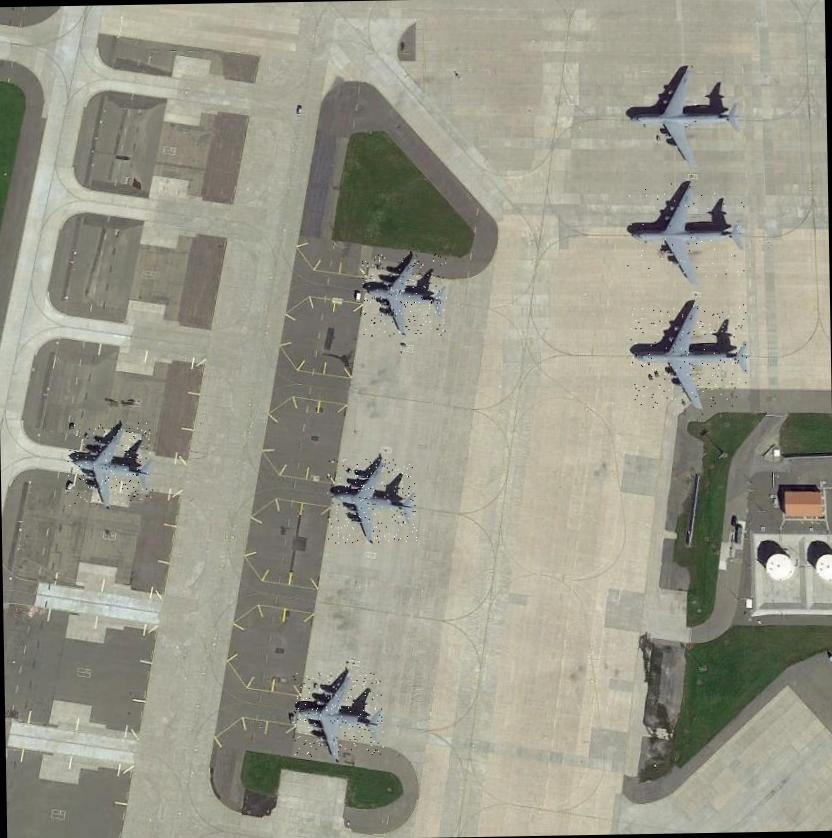A3: (327, 458, 417, 545), (294, 672, 384, 758), (67, 423, 153, 506), (362, 253, 447, 336)
A4: (627, 64, 745, 170), (630, 303, 748, 408), (625, 180, 746, 282)
